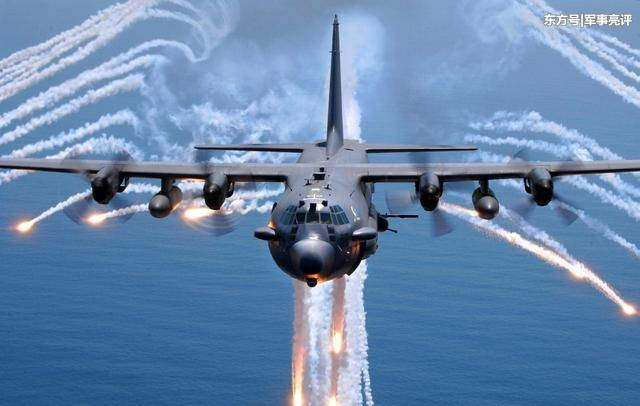airplane: (1, 12, 640, 289)
